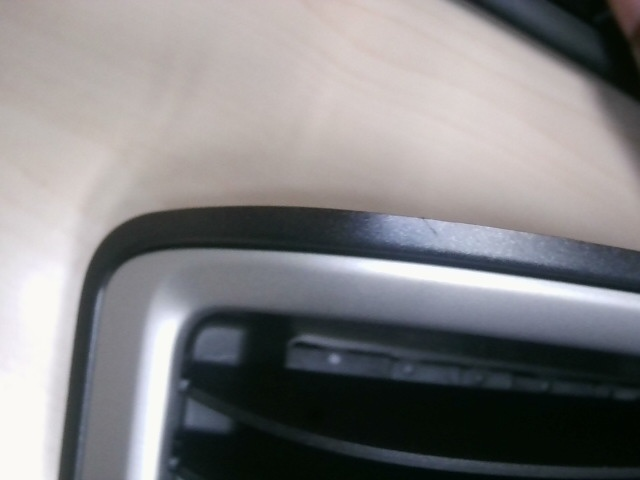NG: (412, 210, 448, 246)
